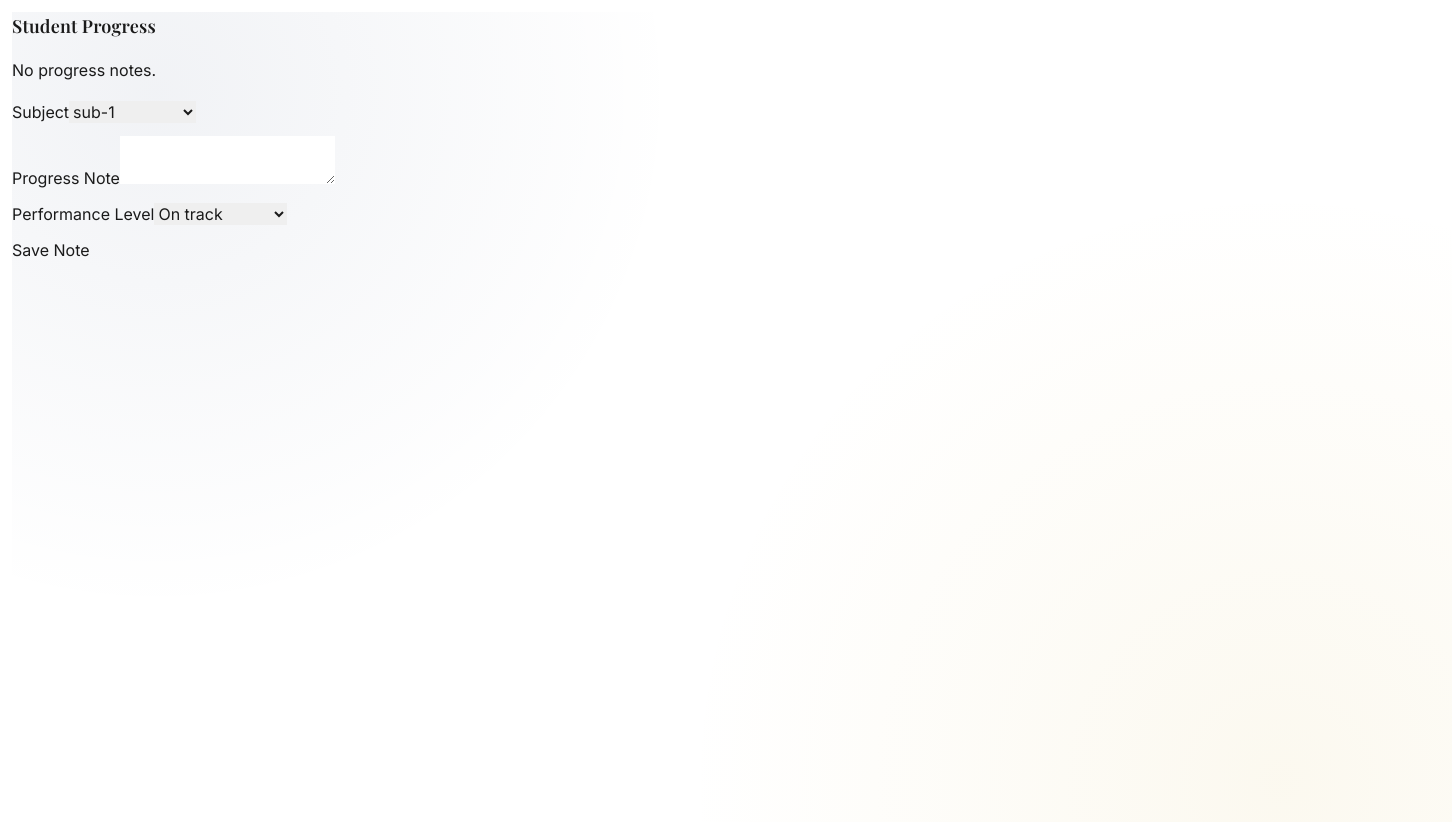
Test case: Teacher mutation feedback › StudentProgressManager shows saving feedback, error feedback, and preserves note content on failure
Type "Needs more support" into the text box labelled "Progress Note" at (227, 160), box x1=120 y1=136 x2=335 y2=184
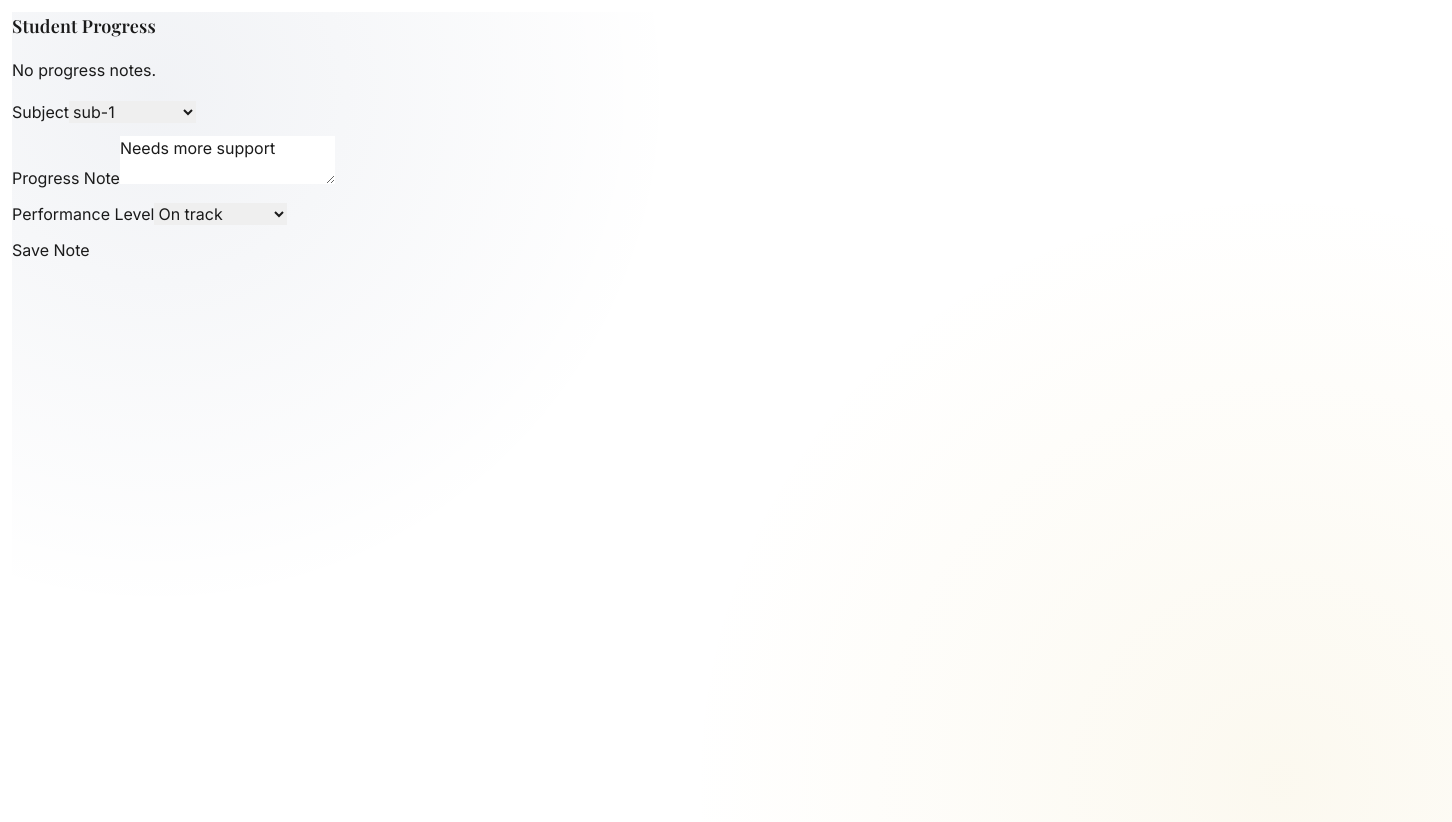
Submit the form "Subject Progress Note Performance Level Save Note", box x1=12 y1=101 x2=335 y2=262
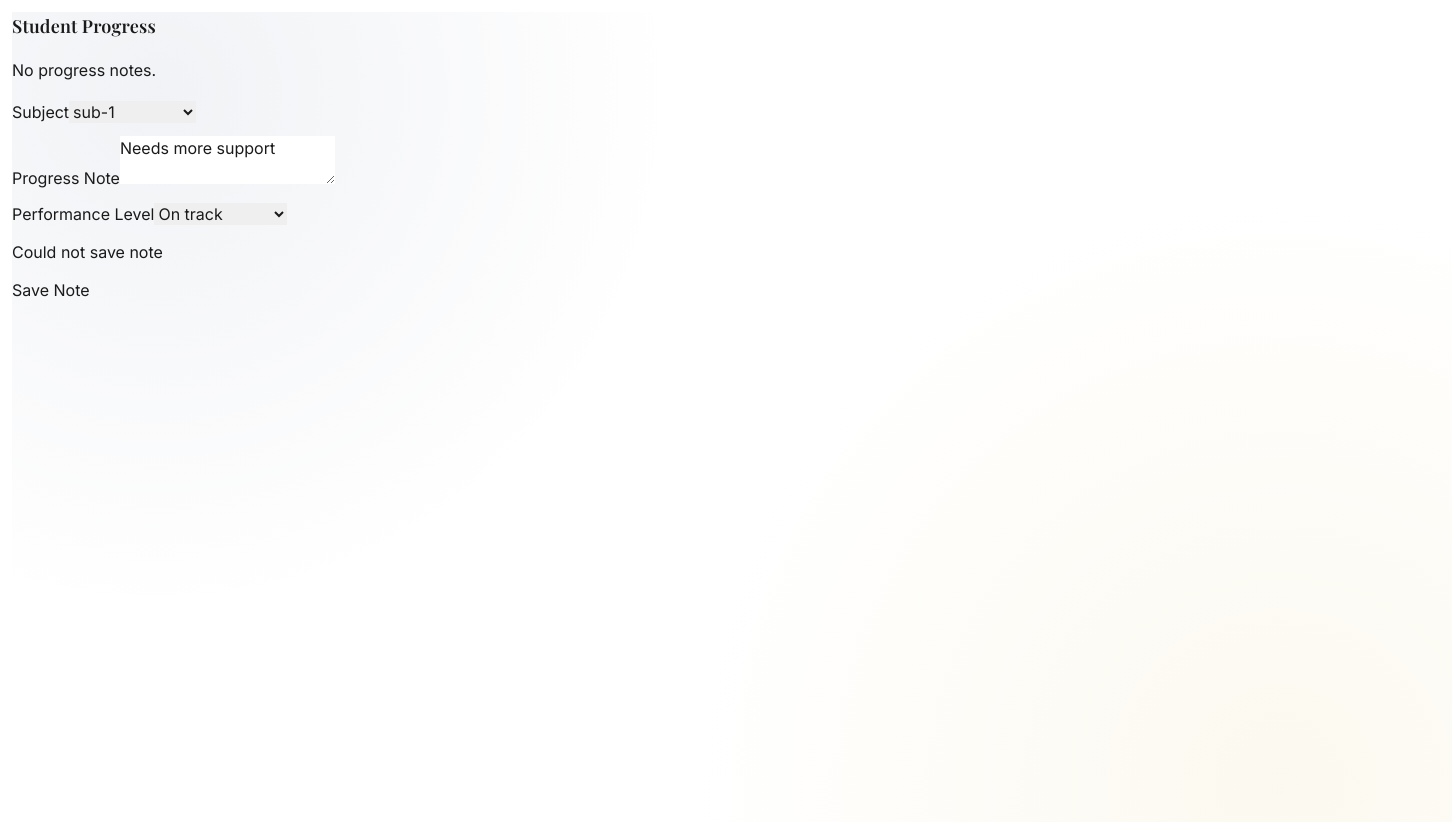
Expected: the button "Save Note" is enabled, x1=12 y1=278 x2=90 y2=302
Expected: the text "Could not save note" is shown, x1=12 y1=242 x2=163 y2=262
